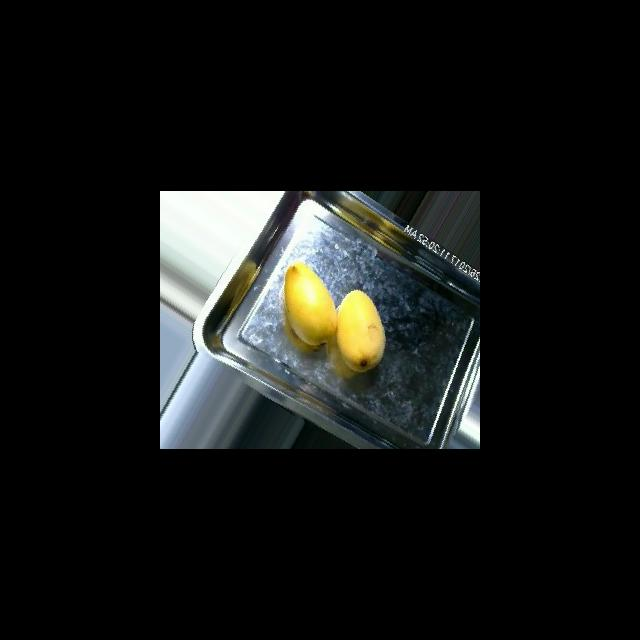mango: (283, 260, 337, 346), (336, 289, 386, 372)
